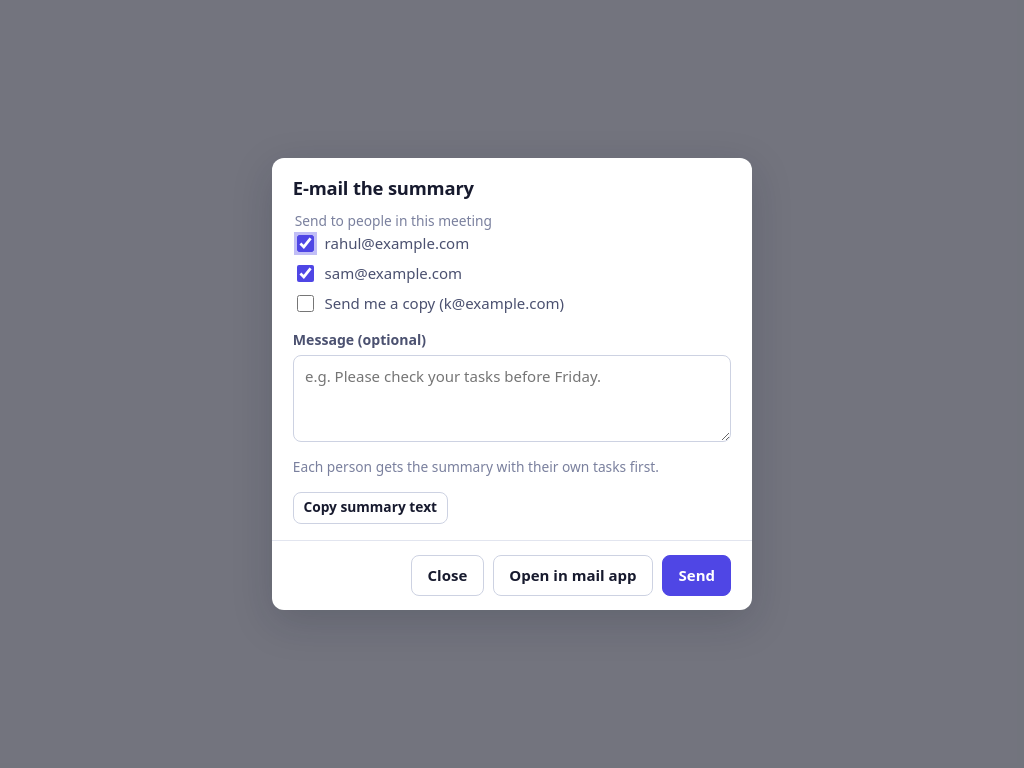
the e-mail dialog › with nobody chosen there is nobody to send to
Click the checkbox labelled "rahul@example.com" at x=305, y=243, box [297,235,314,252]
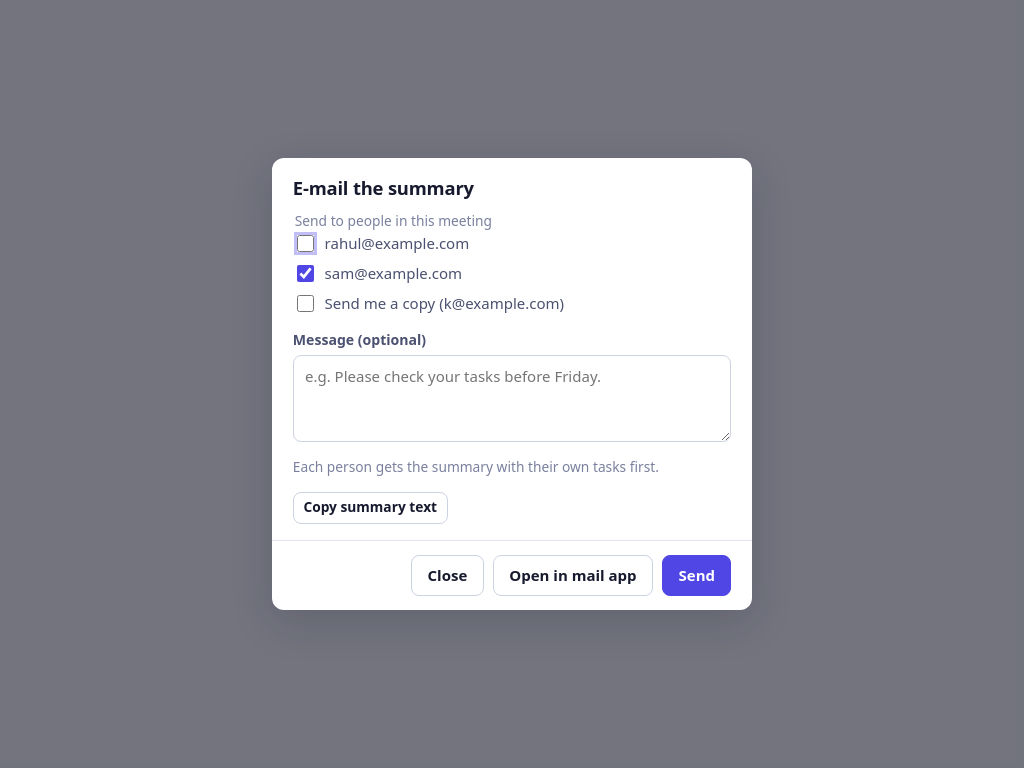
Click the checkbox labelled "sam@example.com" at x=305, y=273, box [297,265,314,282]
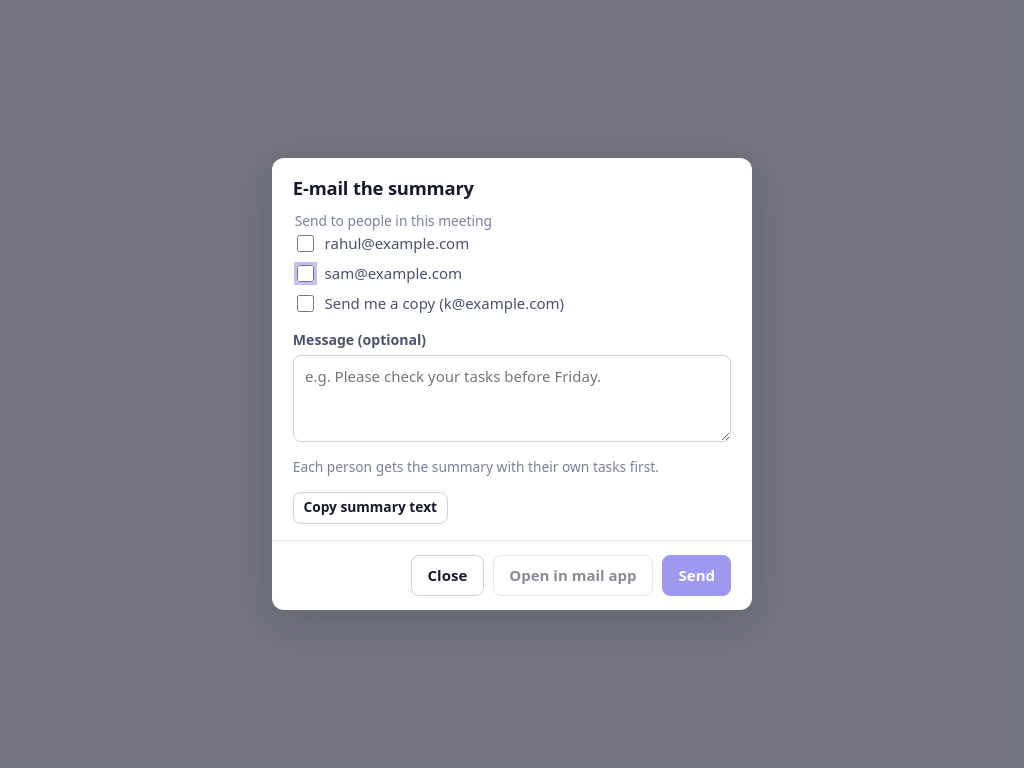
Now the button "Send" is disabled, box [662,555,731,596]
